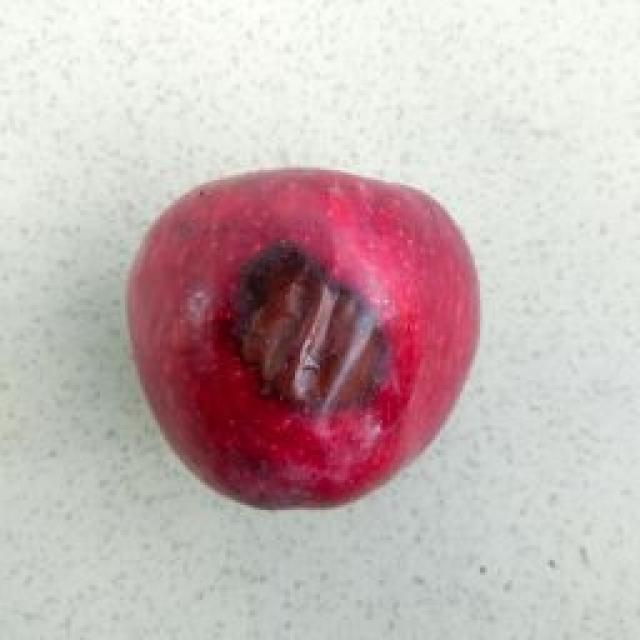Bad_Apple: (128, 169, 479, 508)
